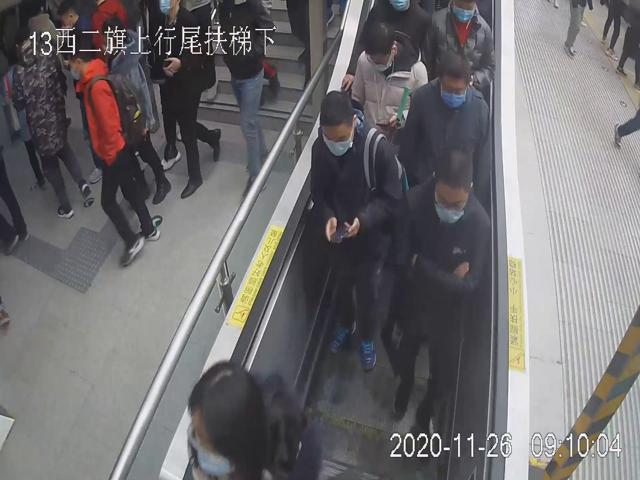person: (389, 144, 492, 440), (308, 89, 405, 373), (67, 33, 161, 268), (403, 49, 493, 214), (351, 17, 429, 140)
